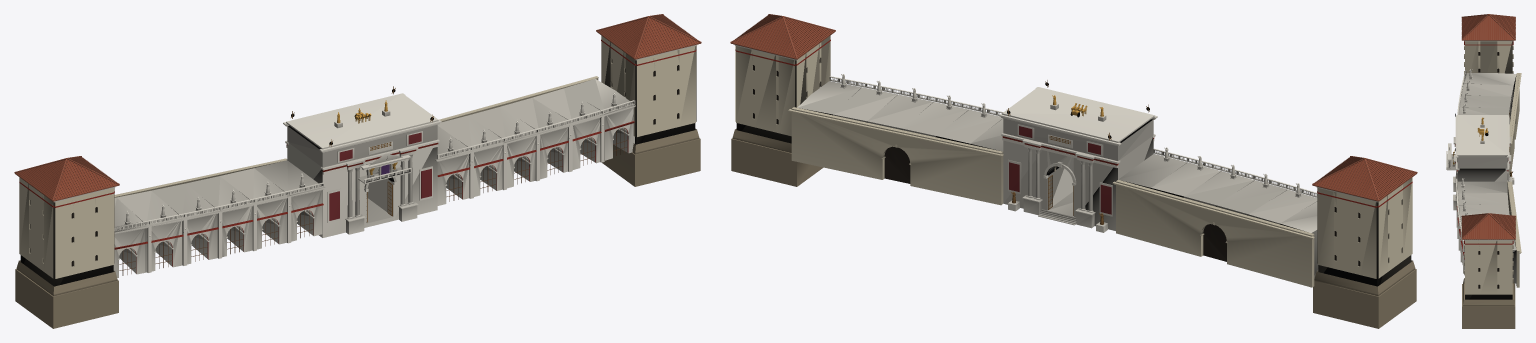
The model's file is rome_circus_carceres.glb.
3 views of the same model, side by side, from view 1: azimuth 30°, elevation 25°; view 2: azimuth 150°, elevation 25°; view 3: azimuth 270°, elevation 25° (orthographic). The views are drawn at different scales.
Parts seen in each view (by area): view 1: rome_circus_carceres; view 2: rome_circus_carceres; view 3: rome_circus_carceres.
Boxes of the visible parts, box(x1,y1,x2,y2) form: rome_circus_carceres: box(14, 14, 701, 328); rome_circus_carceres: box(730, 14, 1417, 328); rome_circus_carceres: box(1446, 14, 1521, 328).
Bounding box in the file's own units: 170 × 37.17 × 24.27.
